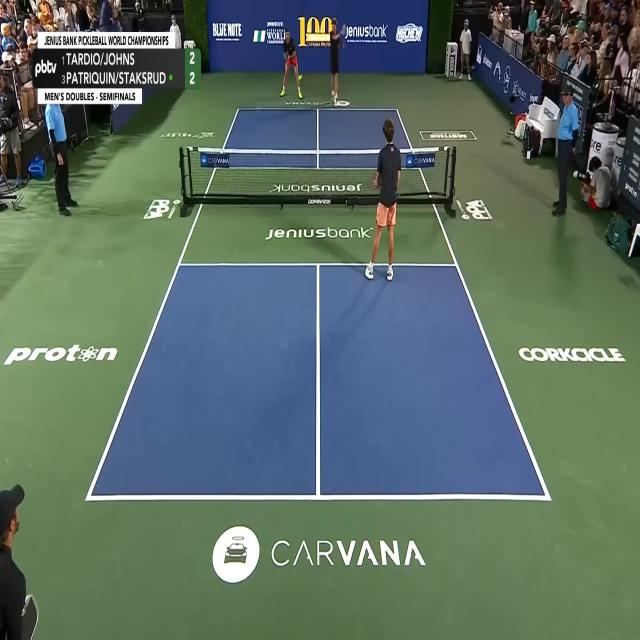ball: (298, 74, 303, 80)
